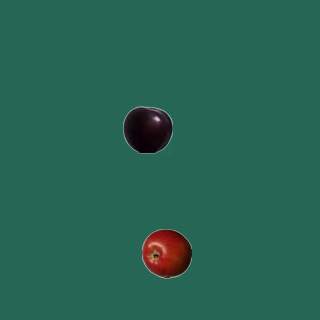Apple Braeburn: (141, 228, 191, 278)
Cherry Wax Black: (122, 104, 172, 154)
